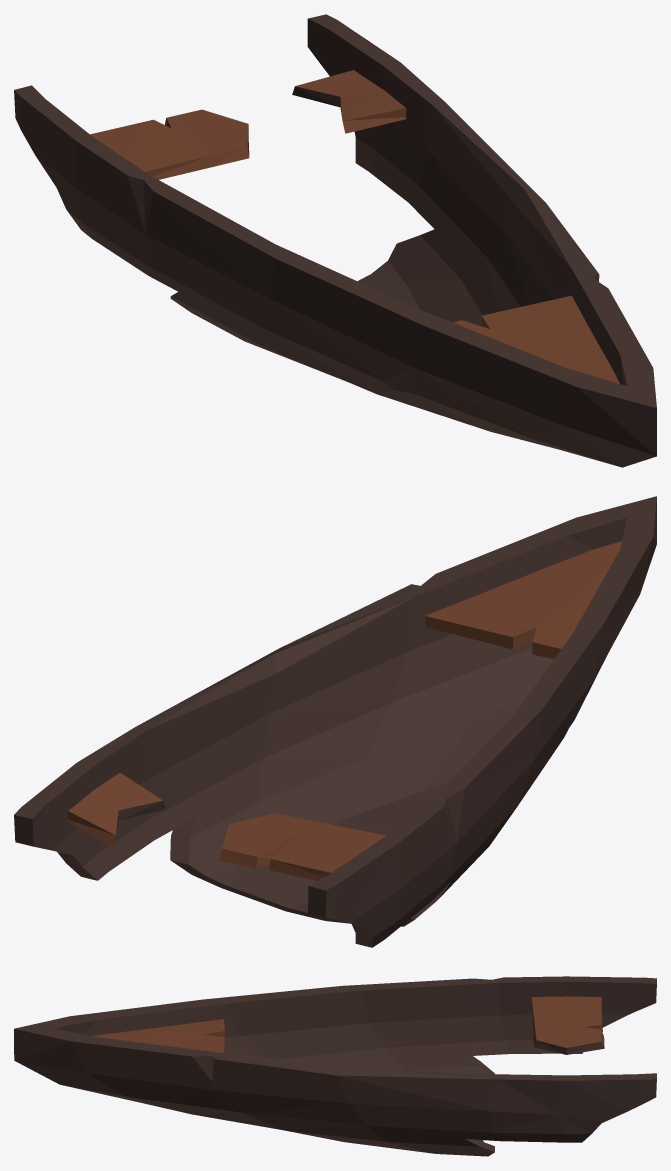
File: Aztec Canoe_Broken_1.fbx
3 views of the same model, one above another, from view 1: azimuth 30°, elevation 25°; view 2: azimuth 150°, elevation 25°; view 3: azimuth 270°, elevation 25° (orthographic). The views are drawn at different scales.
Visible parts, largest first — view 1: Aztec Canoe_Broken_1; view 2: Aztec Canoe_Broken_1; view 3: Aztec Canoe_Broken_1.
Part boxes in pixels (x1,y1,x2,y2): Aztec Canoe_Broken_1: (14, 14, 656, 467); Aztec Canoe_Broken_1: (14, 496, 656, 947); Aztec Canoe_Broken_1: (14, 976, 656, 1156).
Size of the model in its own units: 1.58 by 0.7583 by 4.11.
